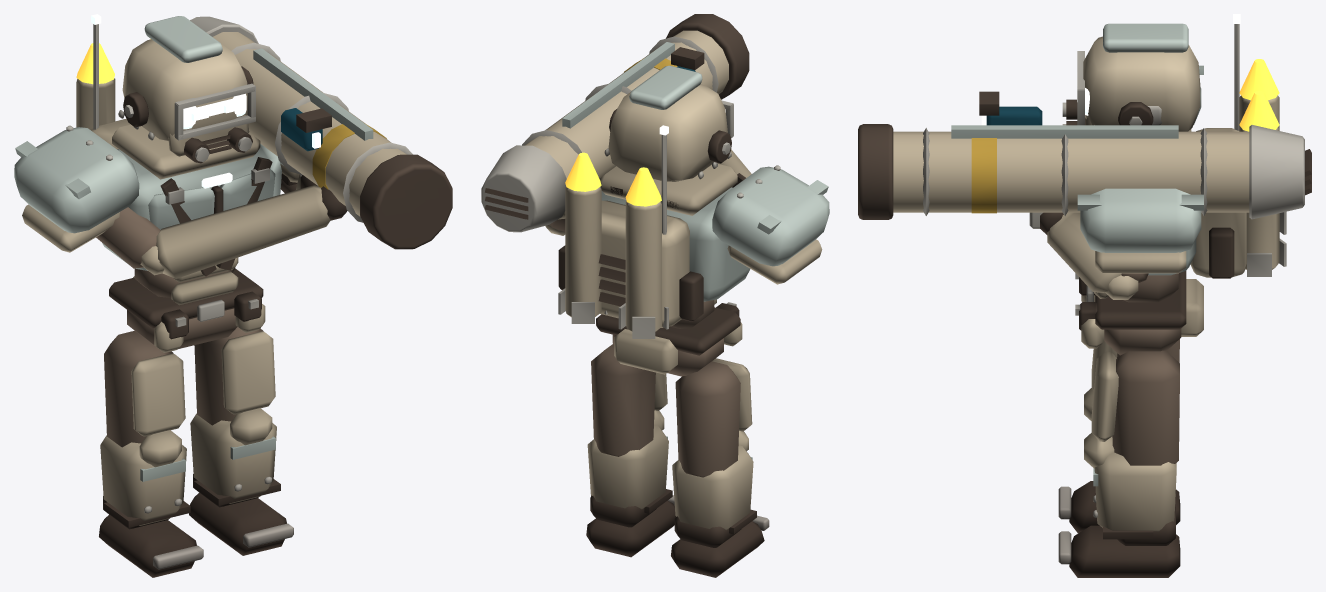
Rendered from antitank.glb.
3 renders of one model, left to right at view 1: azimuth 30°, elevation 25°; view 2: azimuth 150°, elevation 25°; view 3: azimuth 270°, elevation 25°, orthographic. The views are drawn at different scales.
Parts seen in each view (by area): view 1: Armor, Chest, Gear, Shin.001, Shin, Launcher, Helmet, Steel, Suit, Leg_suit, Boot, Boot.001 (+13 smaller); view 2: Armor, Chest, Gear, Steel, Helmet, Leg_suit, Leg_suit.001, Shin, Shin.001, Launcher, Pack, Boot (+4 smaller); view 3: Launcher, Chest, Gear, Steel, Armor, Shin.001, Helmet, Leg_suit.001, Boot.001, Suit, Helmet_crest, Pack (+5 smaller).
Boxes of the visible parts, x1,y1,x2,y2 form: Armor: (22,78,330,352); Chest: (14,48,373,270); Gear: (109,66,452,339); Shin.001: (190,331,276,503); Shin: (100,353,186,525); Launcher: (213,32,406,216); Helmet: (122,39,247,140); Steel: (66,16,412,327); Suit: (96,179,296,348); Leg_suit: (104,330,172,447); Boot: (99,496,196,577); Boot.001: (189,474,286,555); Armor: (545,149,822,374); Chest: (562,42,829,301); Gear: (485,14,749,355); Steel: (481,36,780,338); Helmet: (608,84,727,181); Leg_suit: (675,361,740,477); Leg_suit.001: (591,344,655,456); Shin: (672,358,753,530); Shin.001: (587,372,668,509); Launcher: (524,30,728,178); Pack: (600,200,689,327); Boot: (671,516,764,577); Launcher: (893,131,1249,212); Chest: (951,65,1203,275); Gear: (858,91,1311,330); Steel: (923,24,1304,315); Armor: (1047,95,1279,348); Shin.001: (1084,351,1176,531); Helmet: (1083,36,1200,131); Leg_suit.001: (1112,350,1179,465); Boot.001: (1069,506,1180,577); Suit: (1104,273,1181,355); Helmet_crest: (1103,23,1188,52); Pack: (1190,128,1246,277).
Size of the model in its own units: 1.42 by 2.25 by 1.8.
